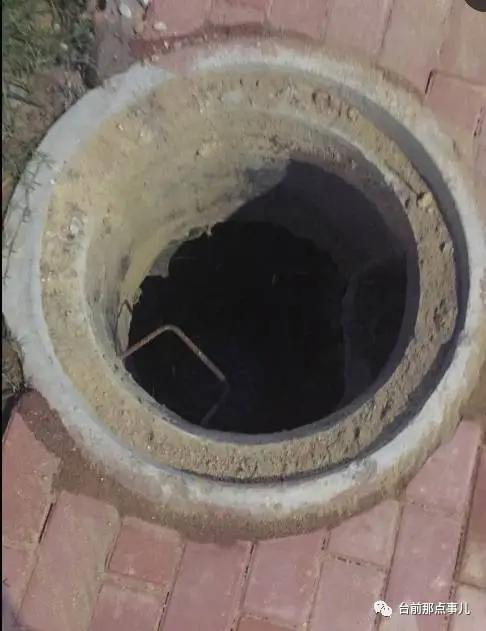wellcover: (0, 54, 486, 514)
